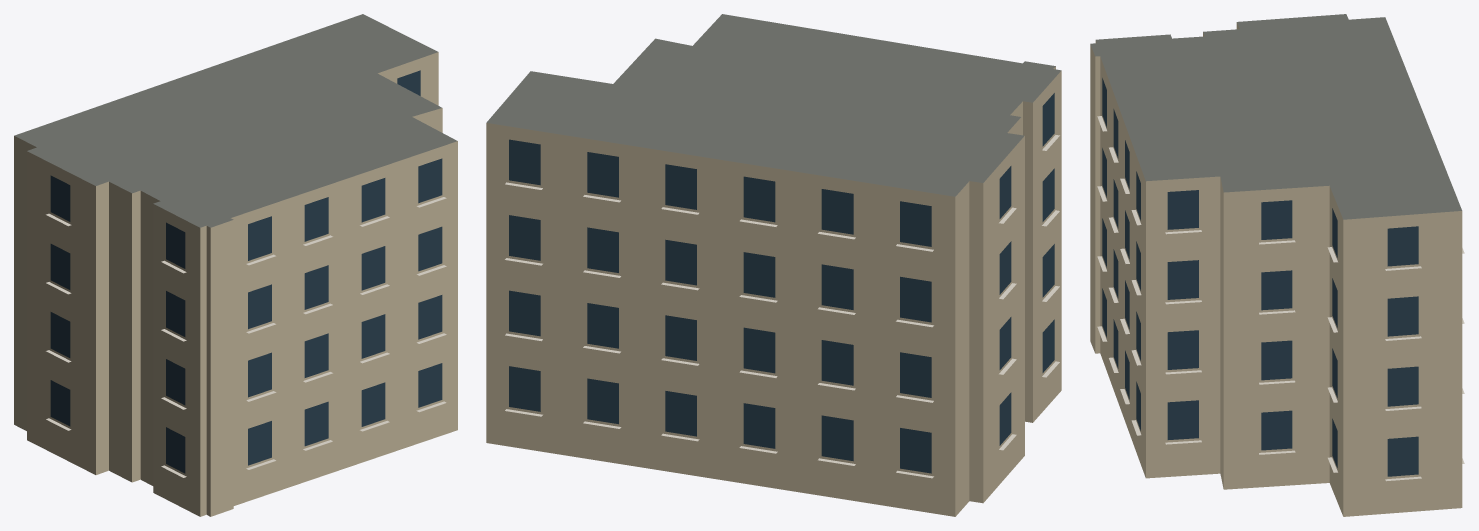
3 views of the same model, side by side, from view 1: azimuth 30°, elevation 25°; view 2: azimuth 150°, elevation 25°; view 3: azimuth 270°, elevation 25° (orthographic). The views are drawn at different scales.
Visible parts, largest first — view 1: Footprint 0, Inferred window bays, Window sills; view 2: Footprint 0, Inferred window bays, Window sills; view 3: Footprint 0, Inferred window bays, Window sills.
Boxes of the visible parts, x1=… form: Footprint 0: x1=14, y1=14, x2=457, y2=516; Inferred window bays: x1=50, y1=70, x2=442, y2=473; Window sills: x1=46, y1=197, x2=446, y2=477; Footprint 0: x1=486, y1=14, x2=1061, y2=516; Inferred window bays: x1=509, y1=93, x2=1054, y2=473; Window sills: x1=505, y1=135, x2=1059, y2=478; Footprint 0: x1=1090, y1=14, x2=1462, y2=516; Inferred window bays: x1=1102, y1=78, x2=1418, y2=476; Window sills: x1=1097, y1=116, x2=1464, y2=481.
Bounding box in the file's own units: 19.22 × 12.94 × 14.78.
